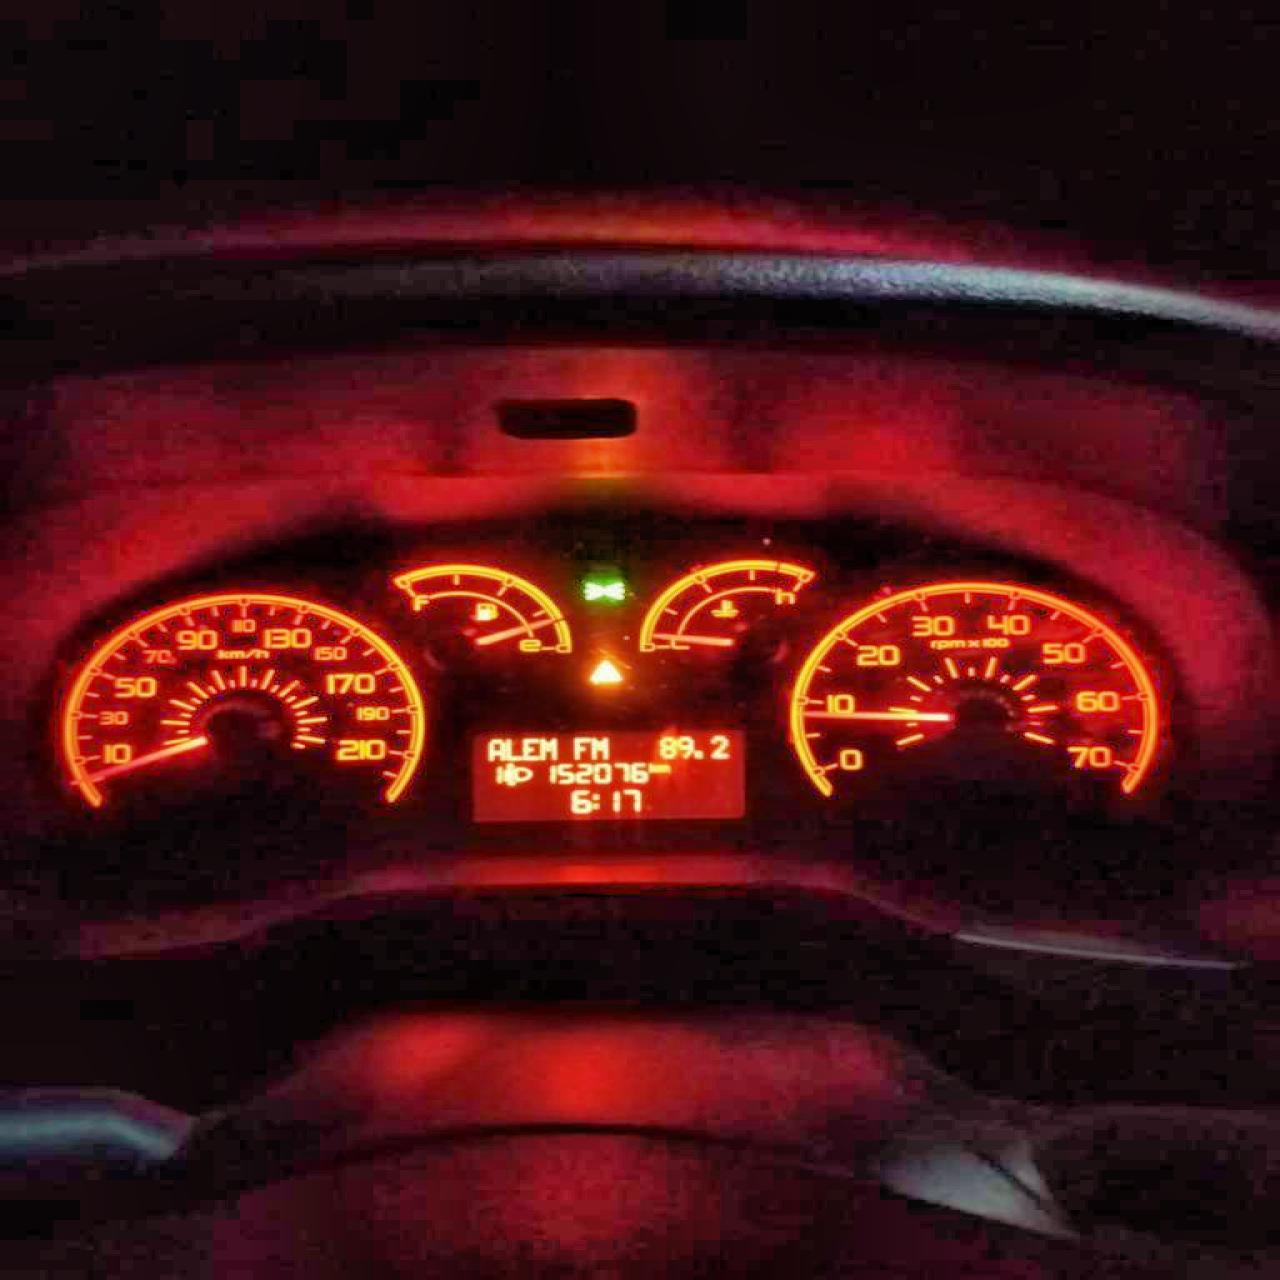-: (693, 749, 704, 760)
0: (592, 761, 612, 784)
1: (610, 788, 620, 812), (546, 763, 557, 787), (493, 764, 499, 787)
2: (707, 734, 730, 758), (576, 761, 592, 784)
5: (557, 761, 573, 784)
6: (568, 789, 592, 812), (629, 760, 648, 782)
7: (621, 788, 641, 811), (612, 760, 631, 782)
8: (659, 735, 675, 760)
9: (675, 734, 693, 758)
X: (572, 734, 591, 760), (485, 736, 505, 760), (590, 735, 608, 760), (540, 735, 557, 760), (522, 736, 538, 760), (505, 736, 522, 760), (656, 763, 672, 774), (592, 791, 600, 809), (648, 760, 656, 772)
odometer: (464, 722, 748, 824)
